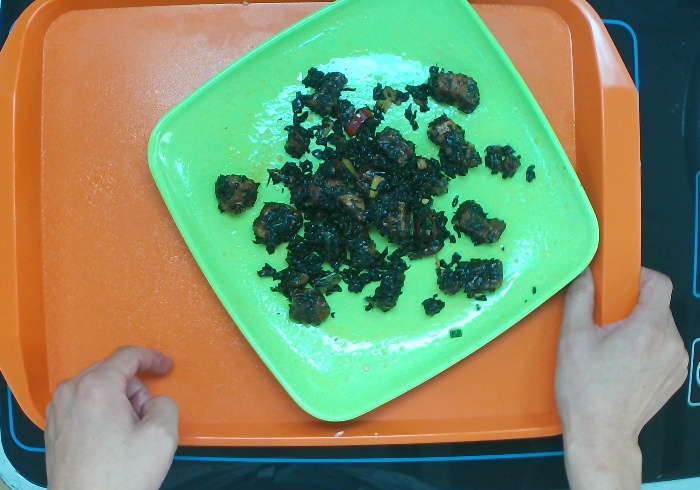ZNLD-Lv_Fang_Pan: (140, 1, 597, 427)
